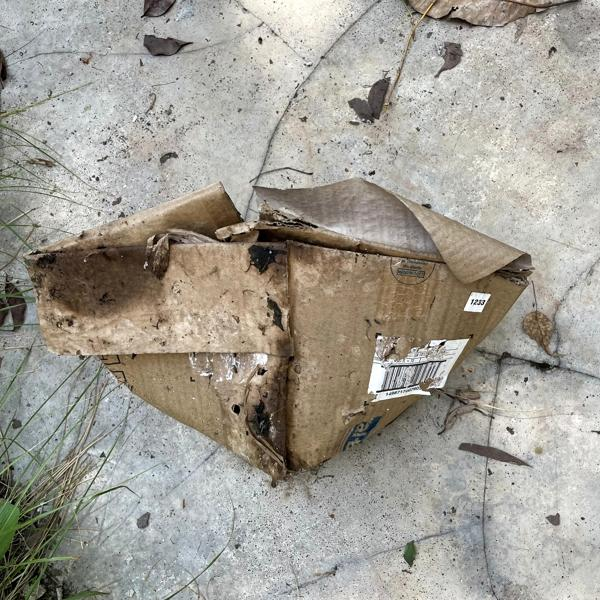Organik: (21, 171, 539, 489)
